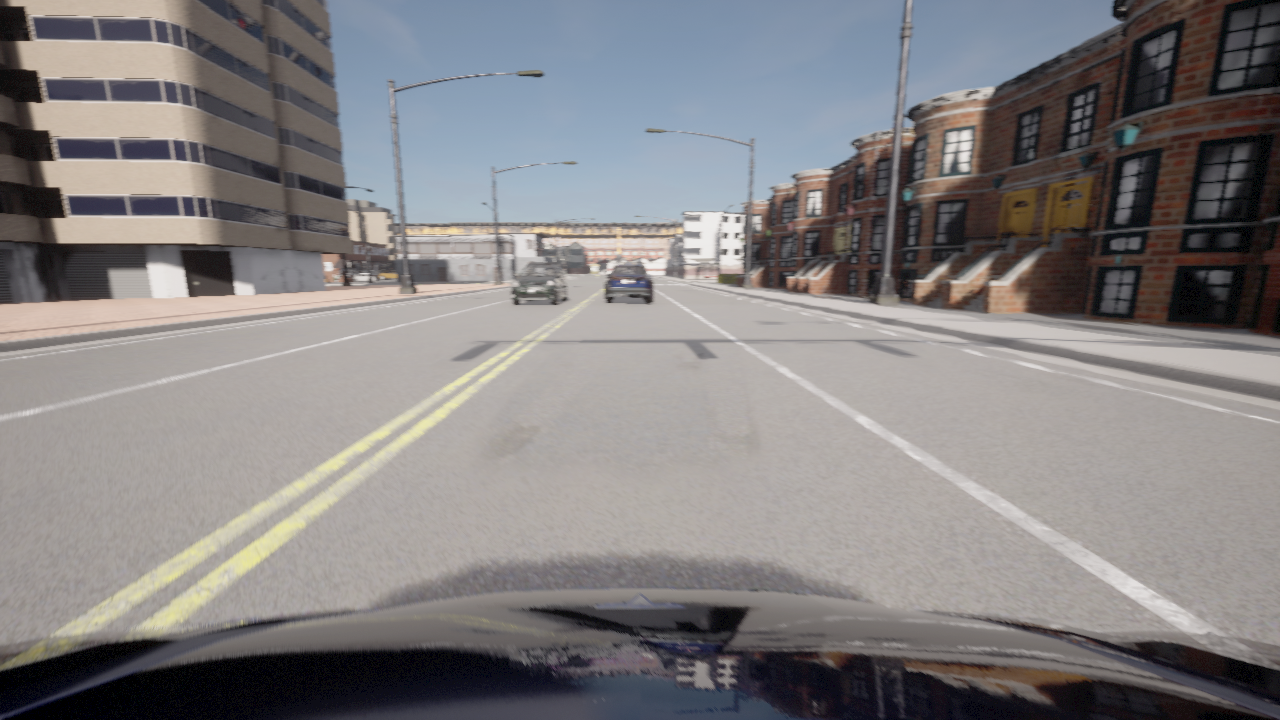cyclist: (0, 588, 1279, 719), (510, 263, 567, 305), (605, 263, 652, 303), (353, 274, 378, 281), (378, 271, 395, 279)
